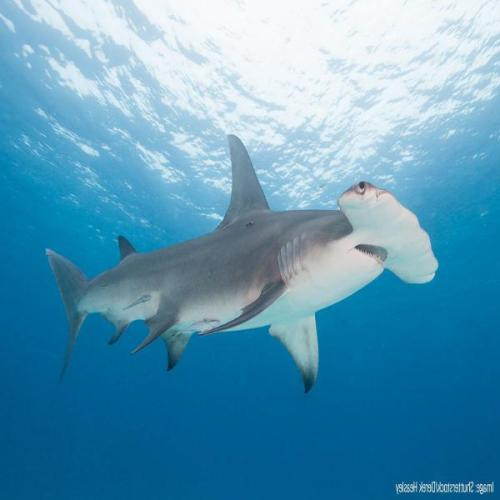shark-endangered: (45, 134, 440, 397)
